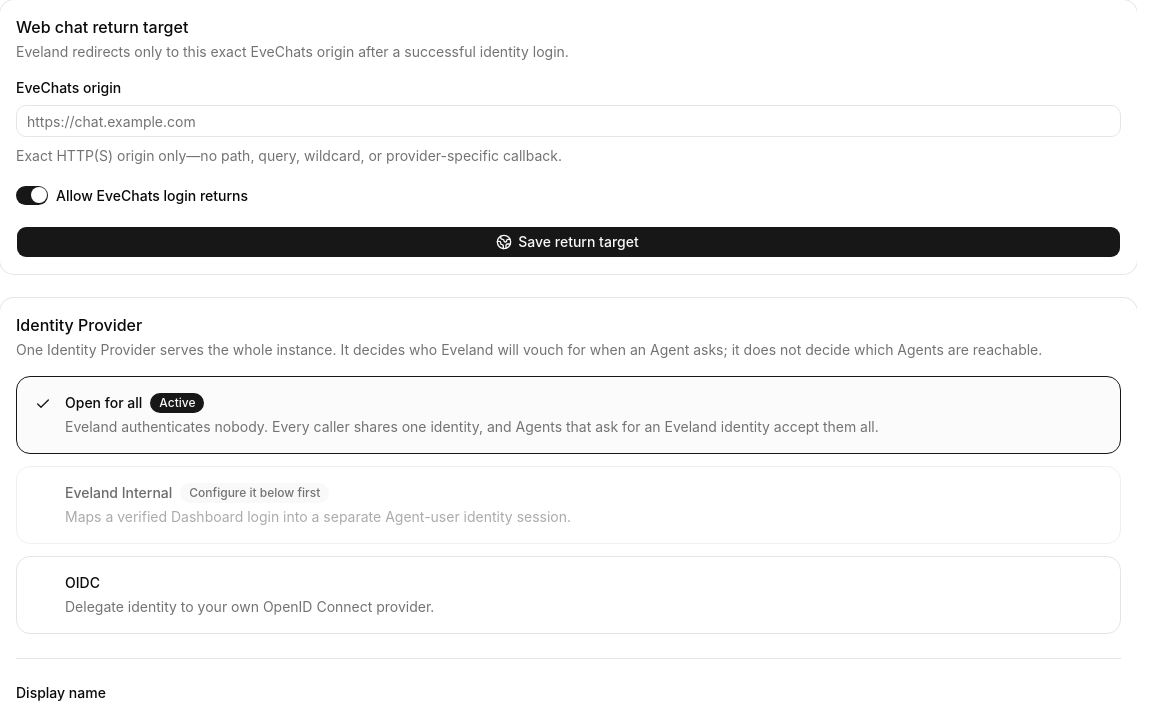
Test case: IdentitySettings OIDC configuration › warns that switching to OIDC turns off the Playground identity credential
The image size is (1152, 710).
Click the radio button labelled "OIDC Delegate identity to your own OpenID Connect provider.".
click(82, 582)  # box top-left (16, 556), bottom-right (1121, 634)
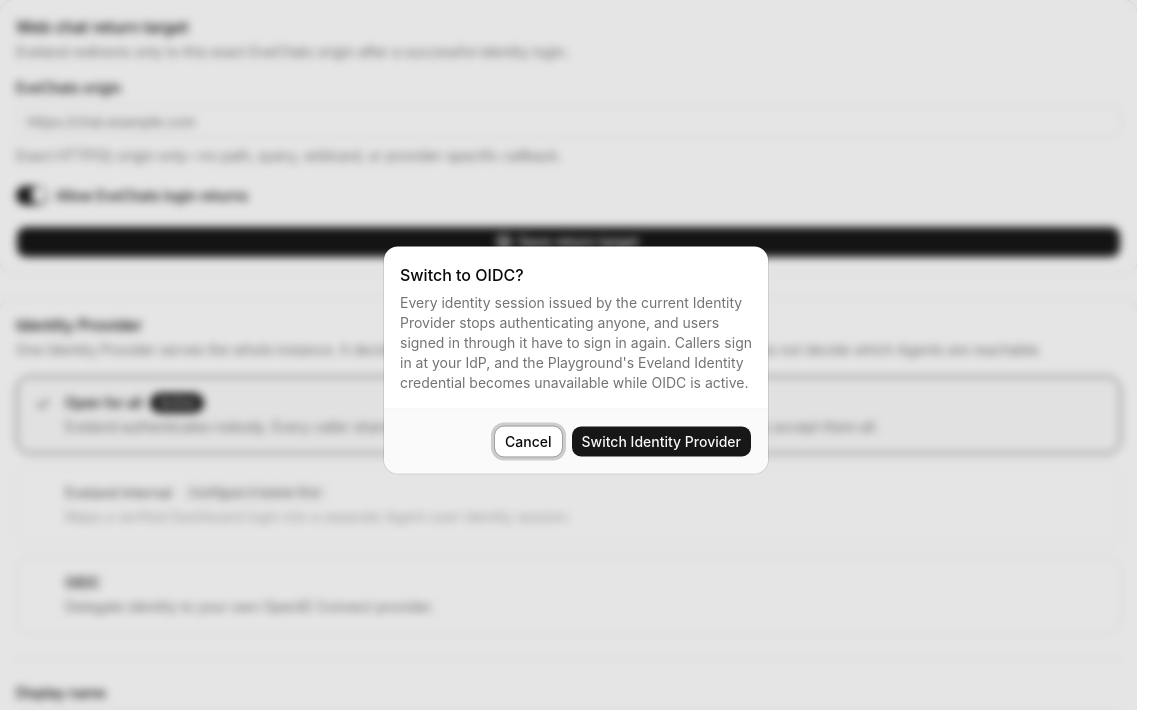
Now the text "Playground's Eveland Identity credential" is shown, box top-left (400, 334), bottom-right (752, 390)
